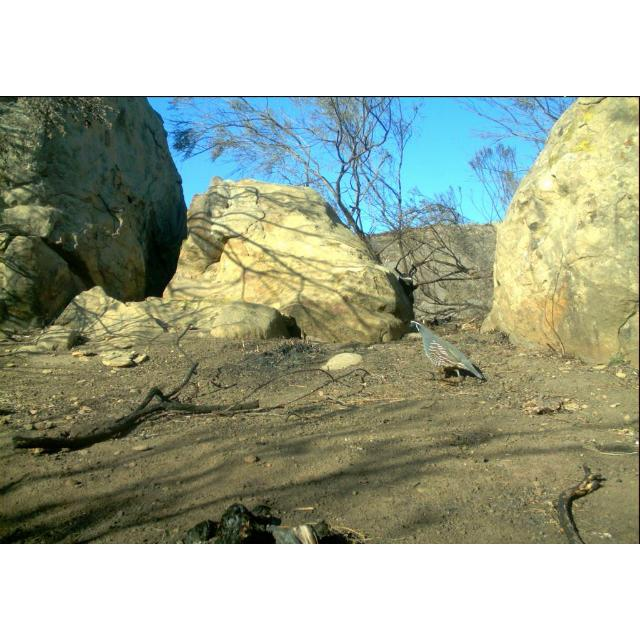animals: (409, 318, 489, 386)
